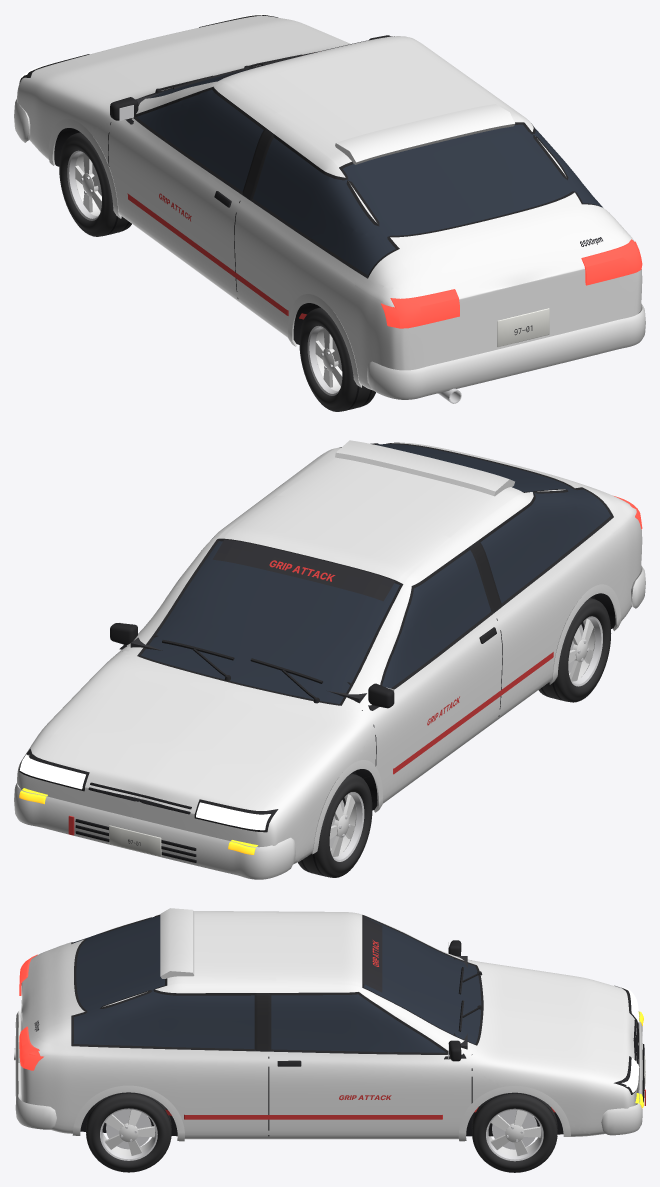
The picture shows the model from 3 angles, top to bottom: view 1: azimuth 30°, elevation 25°; view 2: azimuth 150°, elevation 25°; view 3: azimuth 270°, elevation 25°; orthographic projection. The views are drawn at different scales.
Parts seen in each view (by area): view 1: Body, Wheel_RL, Wheel_FL; view 2: Body, Wheel_FL, Wheel_RL; view 3: Body, Wheel_FR, Wheel_RR.
Part boxes in pixels (x1,y1,x2,y2): Body: [14, 14, 645, 403]; Wheel_RL: [299, 307, 375, 411]; Wheel_FL: [59, 132, 131, 236]; Body: [14, 440, 645, 879]; Wheel_FL: [298, 773, 372, 877]; Wheel_RL: [538, 598, 611, 702]; Body: [14, 908, 645, 1141]; Wheel_FR: [472, 1092, 557, 1172]; Wheel_RR: [86, 1092, 171, 1172].
Size of the model in its own units: 1.77 by 1.38 by 4.29.
